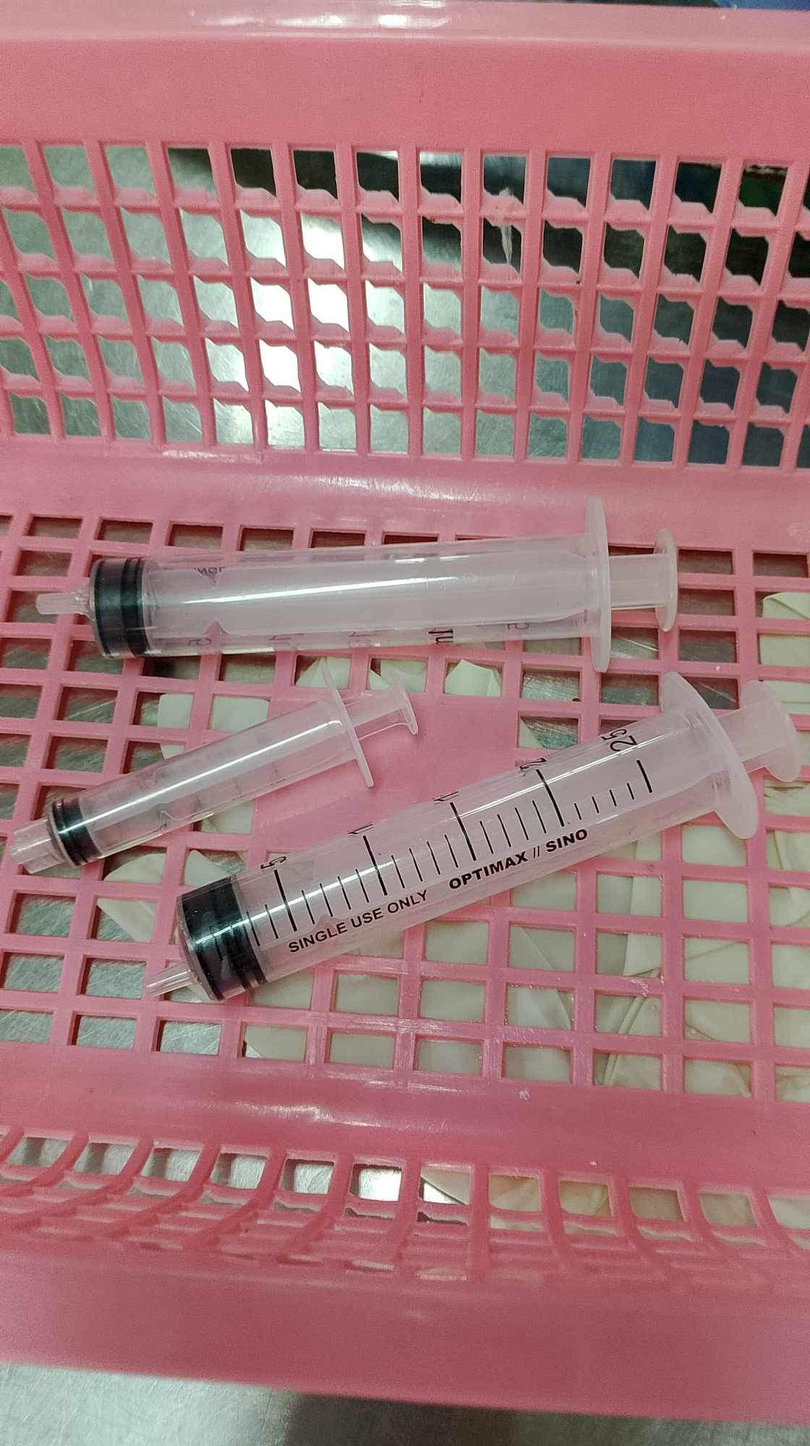Sharps: (141, 668, 801, 1006), (34, 494, 681, 670), (7, 675, 419, 877)
